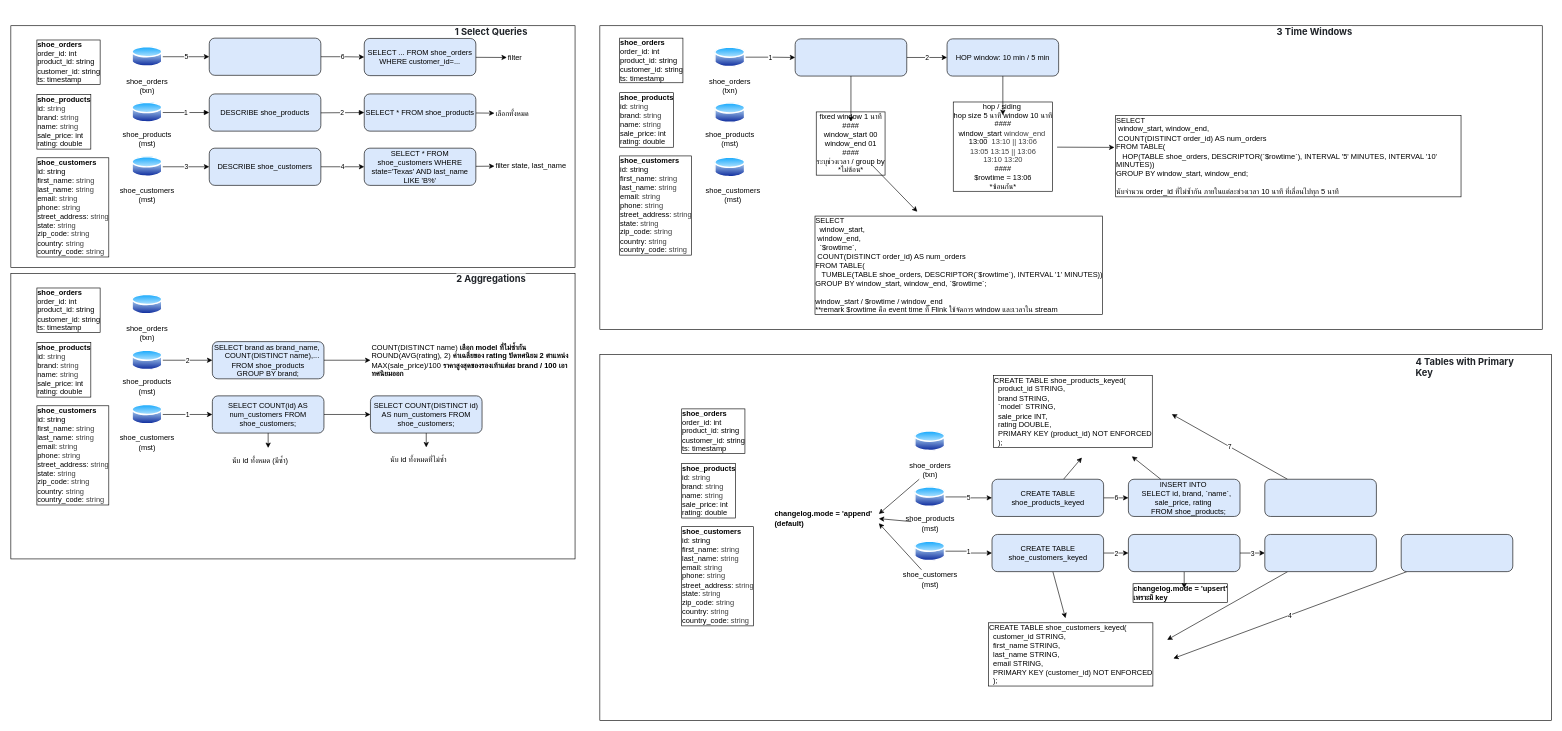
Image size: 1562x731. Some labels were removed from this diagram. Each missing label, with the box of its shape:
DESCRIBE EXTENDED shoe_orders: (209, 38, 321, 75)
INSERT INTO SELECT id, first_name, last_name, email FROM shoe_customers;: (1264, 534, 1376, 572)
SELECT *: (1264, 479, 1376, 516)
SELECT * where customer_id = 'xx': (1401, 534, 1513, 572)
SHOW CREATE TABLE shoe_customers_keyed;: (1128, 534, 1240, 572)
TUMBLE window: 1 min: (795, 38, 907, 76)
